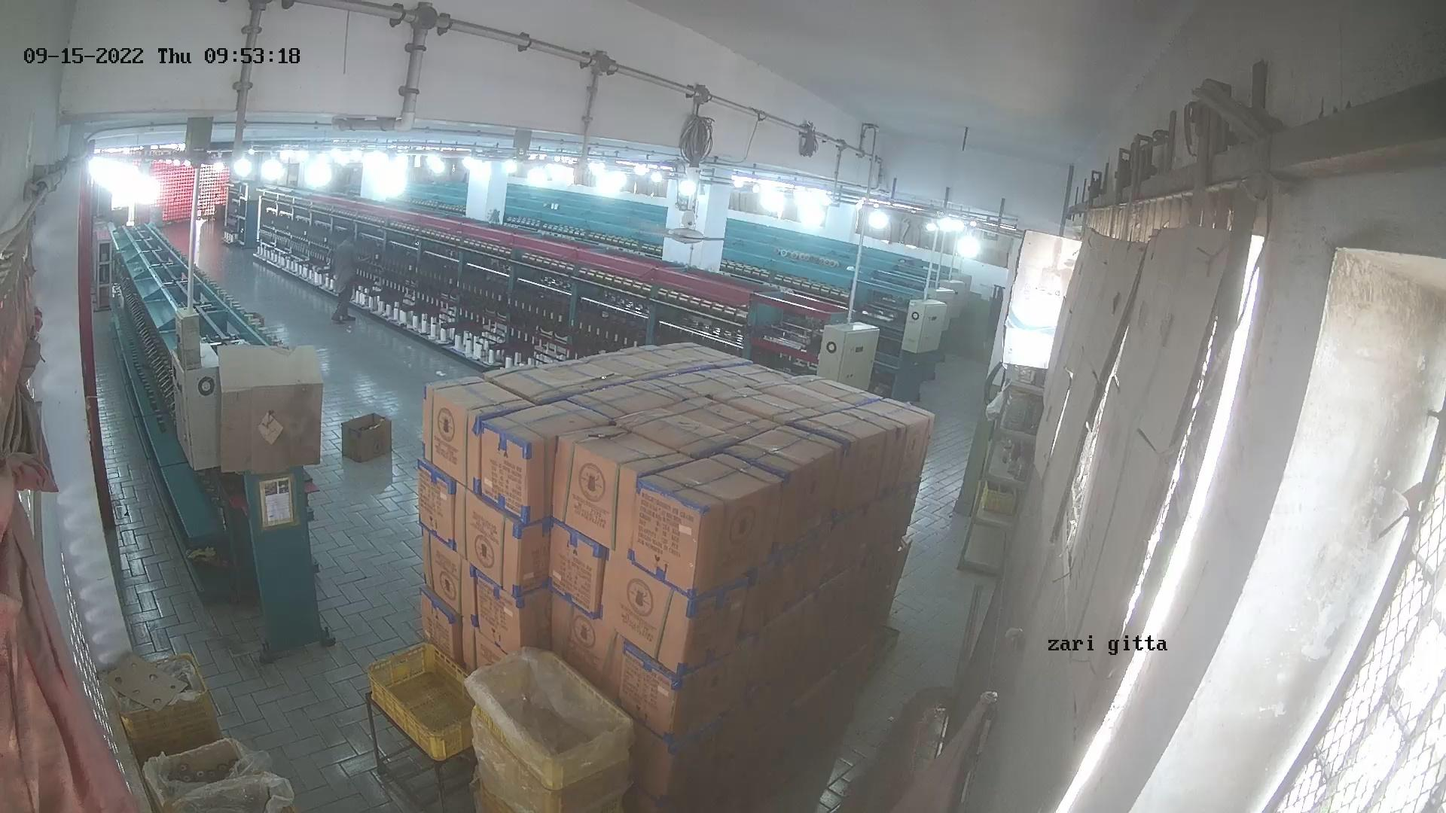person: (330, 226, 361, 326)
